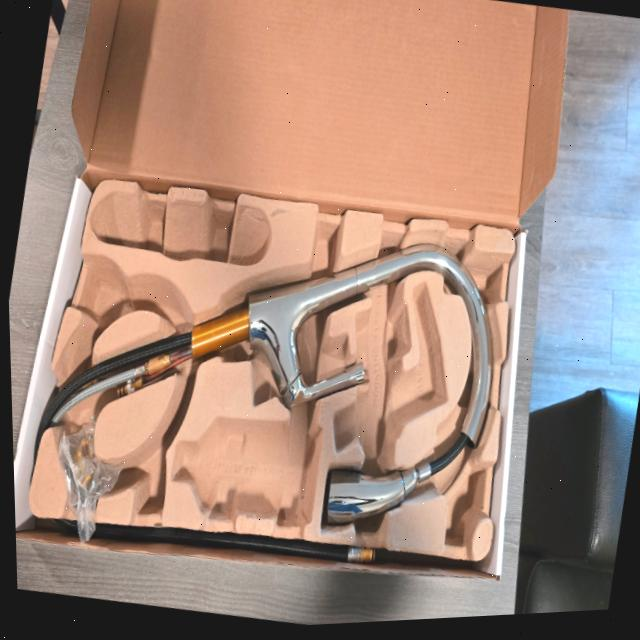1: (34, 241, 494, 525)
2m: (333, 286, 445, 454)
3m: (170, 416, 319, 520)
4m: (90, 190, 270, 266)
5m: (80, 261, 128, 327)
6: (53, 409, 122, 543)
7m: (131, 414, 165, 513)
